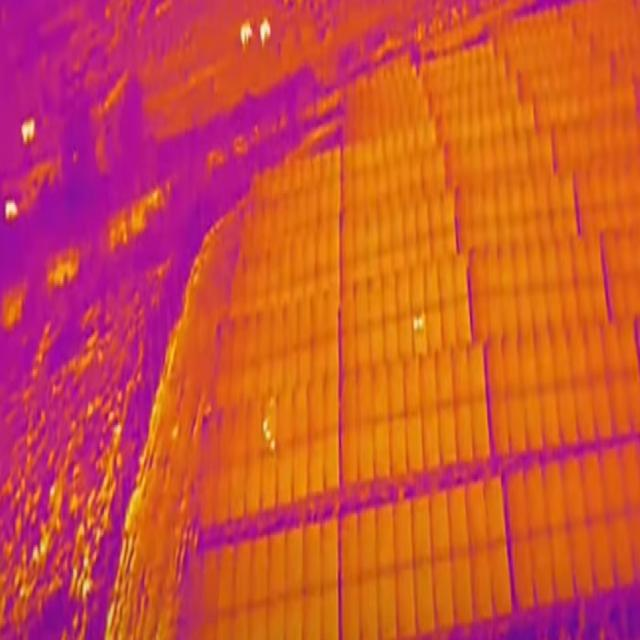hotspot group: (262, 419, 275, 450), (413, 316, 424, 333)
panel with hotspots: (261, 392, 279, 457), (412, 309, 430, 356)
